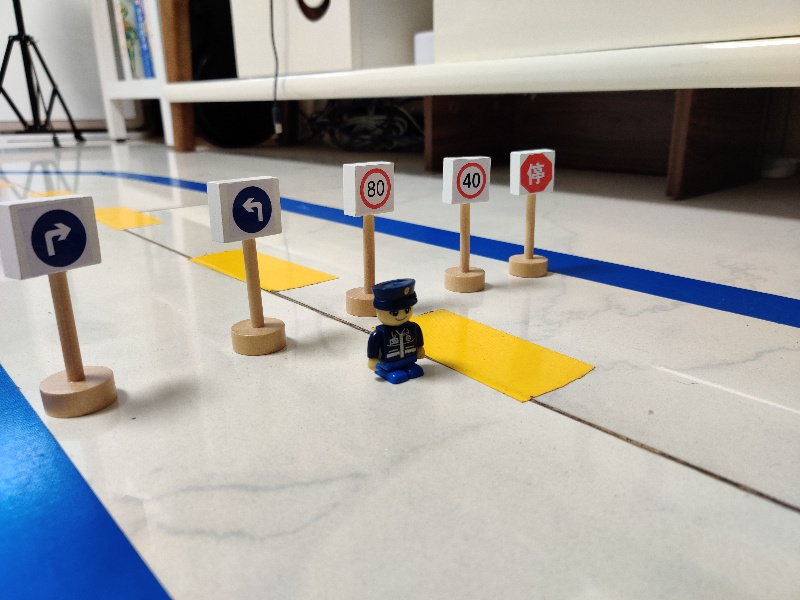limit_40: (438, 156, 492, 205)
limit_80: (340, 161, 397, 218)
person: (364, 276, 431, 388)
stop: (507, 149, 558, 195)
turn_left: (207, 173, 282, 246)
turn_right: (1, 192, 101, 282)
